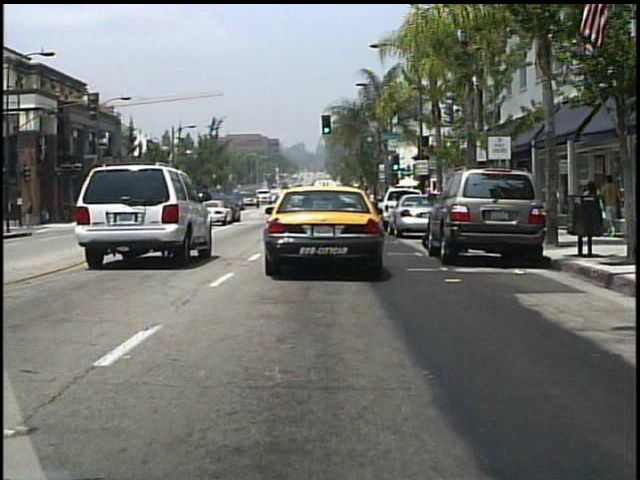person: (603, 171, 623, 233), (588, 181, 607, 241)
